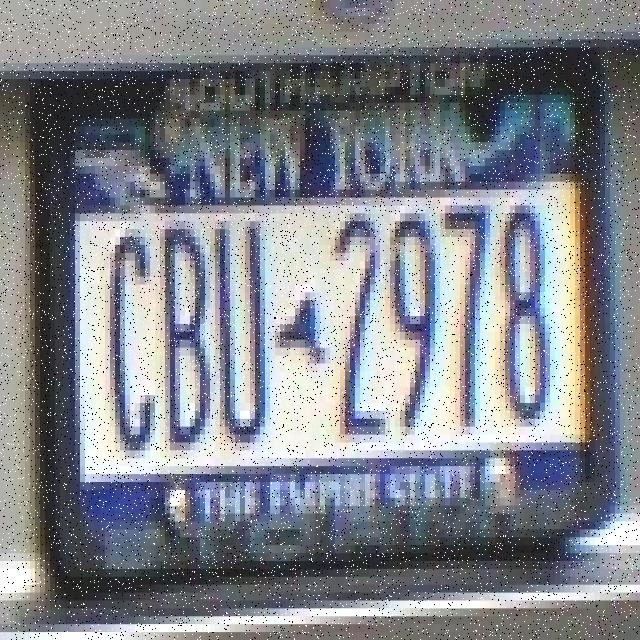licenseplate: (18, 38, 632, 582)
